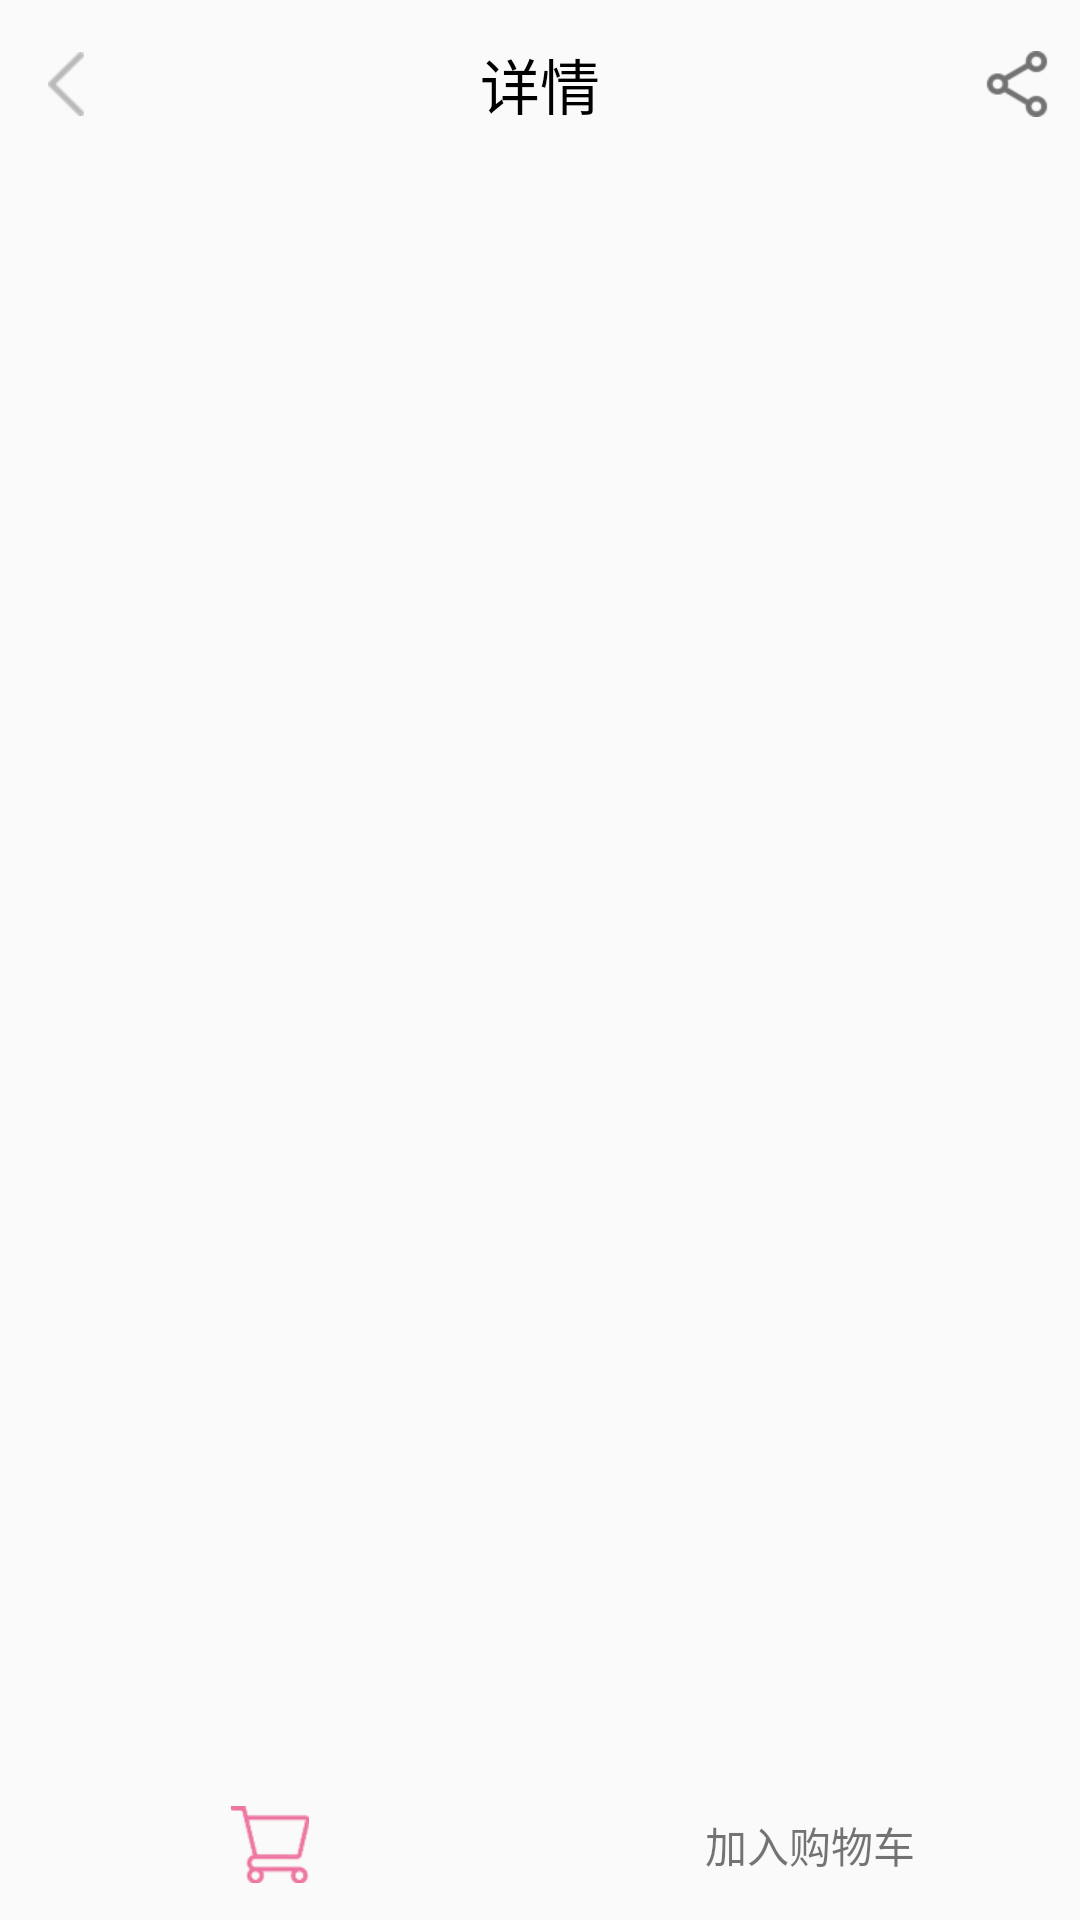

Icons on this 1080px×1920px Android screen, each with the point to tap as (x,y):
back: (66,84)
cart: (270,1844)
share: (1017,84)
